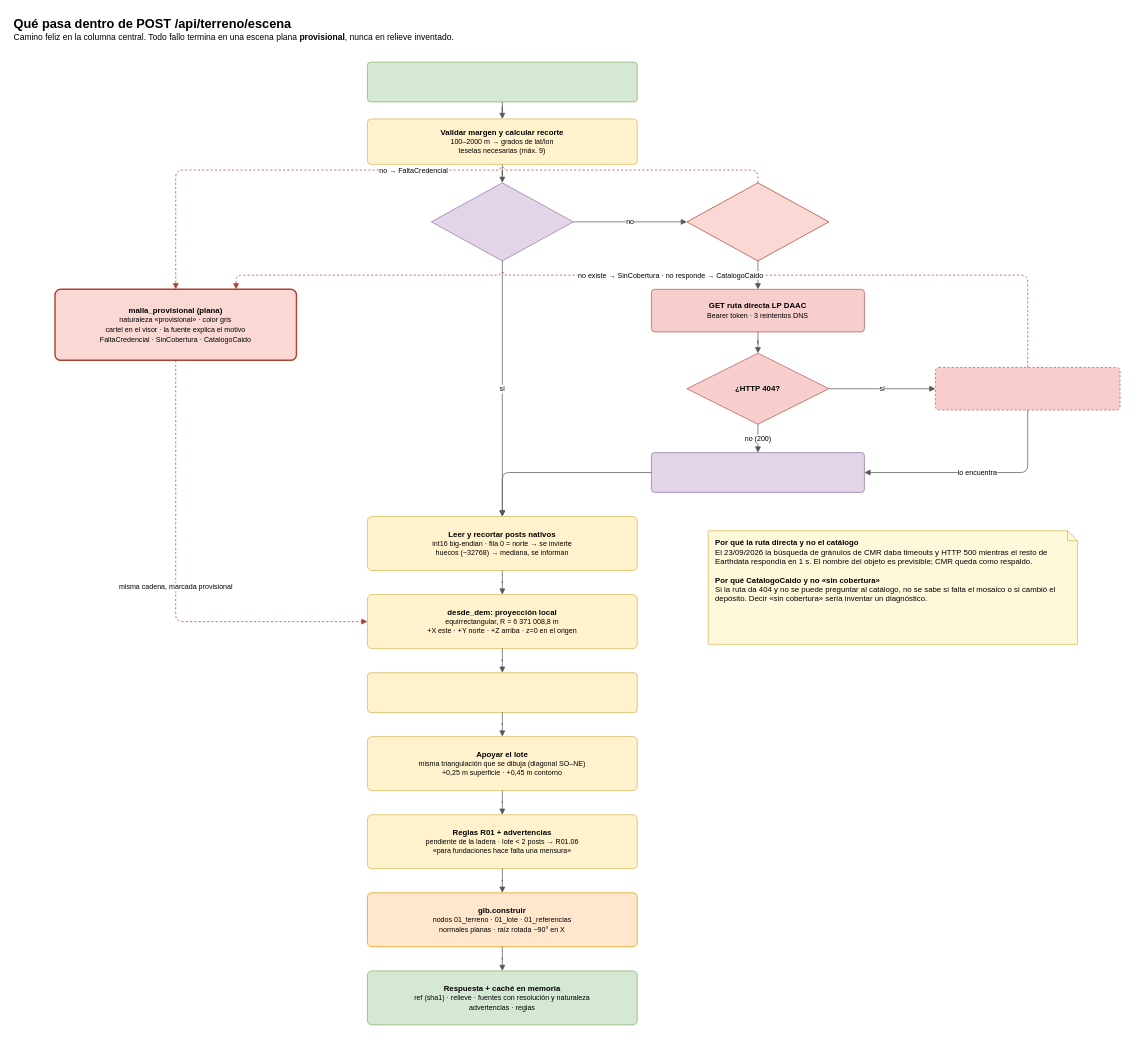
Image size: 1132x1037. Some labels were removed from this diagram. Each missing label, with the centre of its shape:
Consultar CMR (respaldo) ¿existe el gránulo?: the point at 1027,388
Descomprimir y guardar .hgt 26 MB por grado: the point at 757,472
POST /api/terreno/escena { lat, lon, margen_m, vértices }: the point at 502,81
Recortar al margen posts de ≈30 m, sin interpolar ni suavizar: the point at 502,692
¿.hgt en cache/nasadem?: the point at 502,221
¿EARTHDATA_TOKEN?: the point at 757,221
